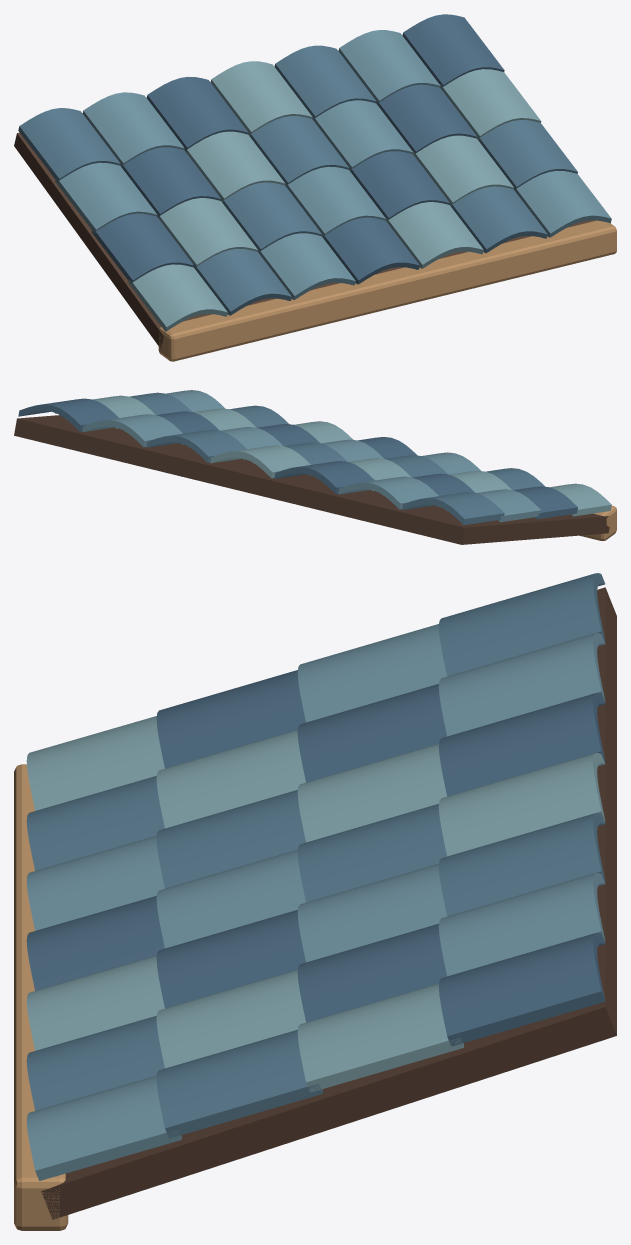
The model's file is canopy_slateblue_2m.glb.
3 renders of one model, top to bottom at view 1: azimuth 30°, elevation 25°; view 2: azimuth 150°, elevation 25°; view 3: azimuth 270°, elevation 25°, orthographic. The views are drawn at different scales.
Parts seen in each view (by area): view 1: canopy_slateblue_2m; view 2: canopy_slateblue_2m; view 3: canopy_slateblue_2m.
Boxes of the visible parts, x1,y1,x2,y2 form: canopy_slateblue_2m: (14, 14, 616, 361); canopy_slateblue_2m: (14, 390, 616, 544); canopy_slateblue_2m: (14, 573, 616, 1230).
Bounding box in the file's own units: 2.2 × 0.6422 × 1.34.
